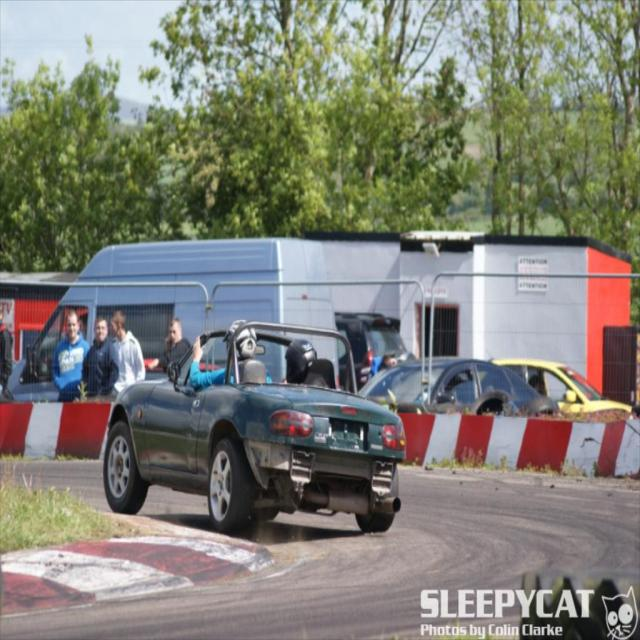car: (104, 321, 404, 527)
